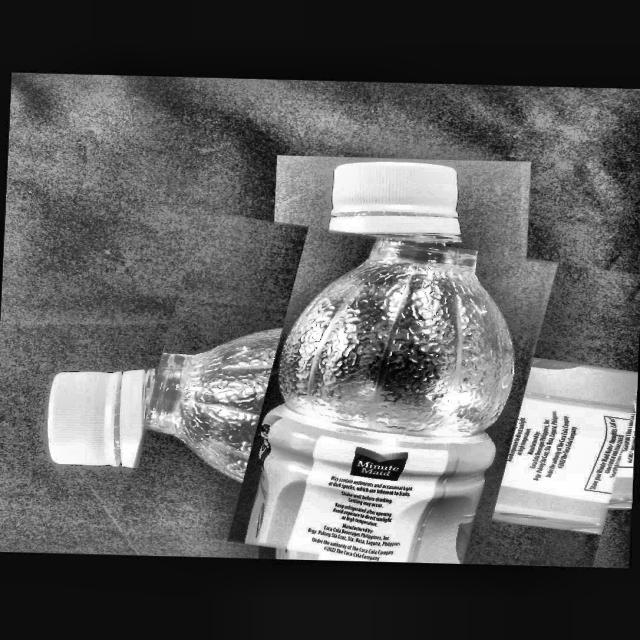Plastic-Bottle: (131, 222, 640, 568)
